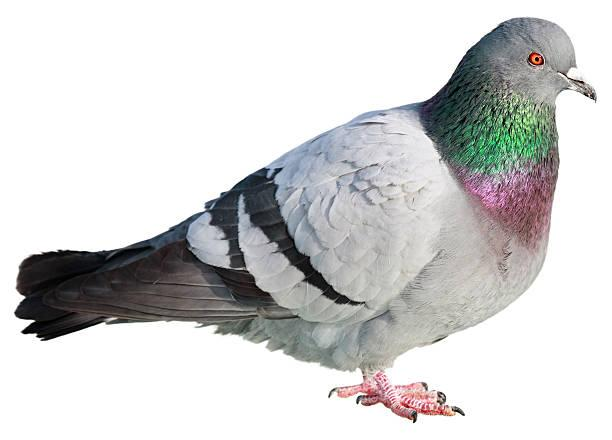Flying Rat: (16, 16, 595, 418)
